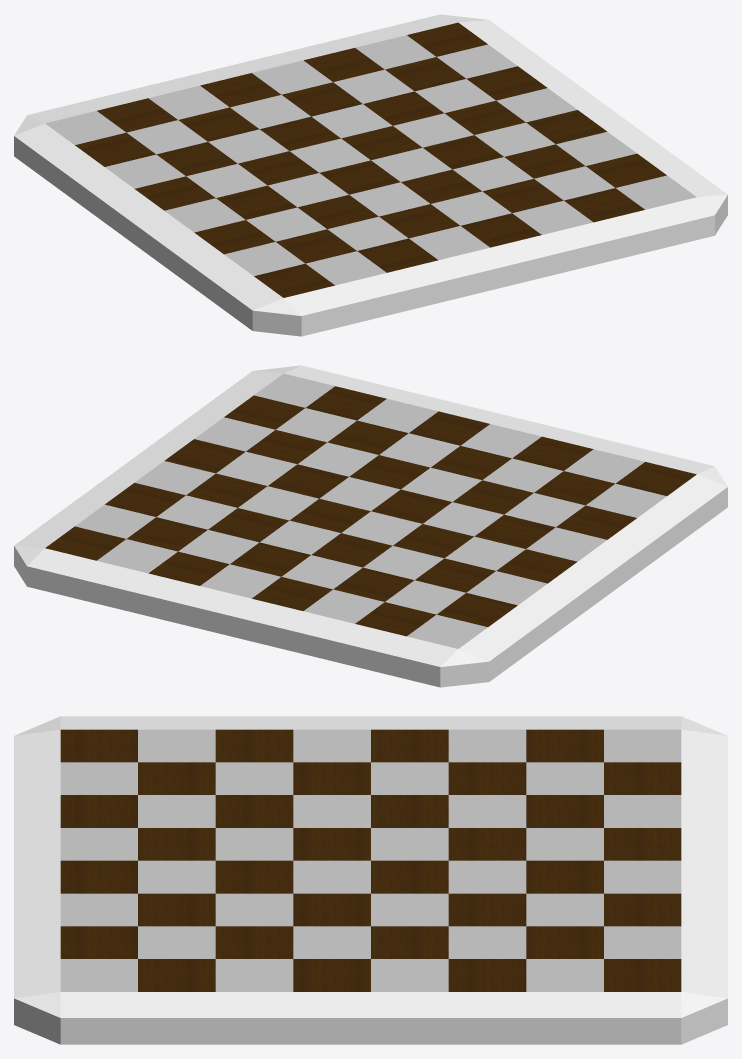
The model's file is Shakkilauta.gltf.
3 renders of one model, top to bottom at view 1: azimuth 30°, elevation 25°; view 2: azimuth 150°, elevation 25°; view 3: azimuth 270°, elevation 25°, orthographic. The views are drawn at different scales.
Visible parts, largest first — view 1: Shakkilauta; view 2: Shakkilauta; view 3: Shakkilauta.
Boxes of the visible parts, x1,y1,x2,y2 form: Shakkilauta: [14, 14, 727, 336]; Shakkilauta: [14, 365, 727, 687]; Shakkilauta: [14, 716, 727, 1044].
Bounding box in the file's own units: 0.5097 × 0.026 × 0.5097.
